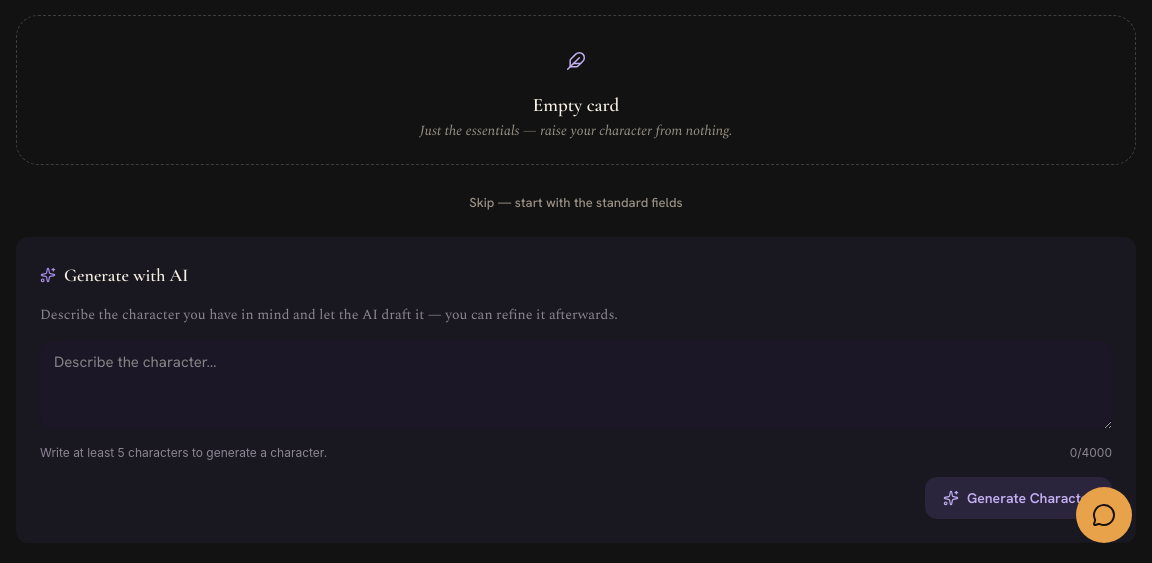
Test: CharacterCreator in an archived workspace › does not create a new card at an archived origin
(page scrolled)
expect the button "Generate Character" is disabled: met, box [925,477,1112,519]
Step 1. Click the button "Skip — start with the standard fields" → x=576, y=203, box [469,193,683,213]
(page scrolled)
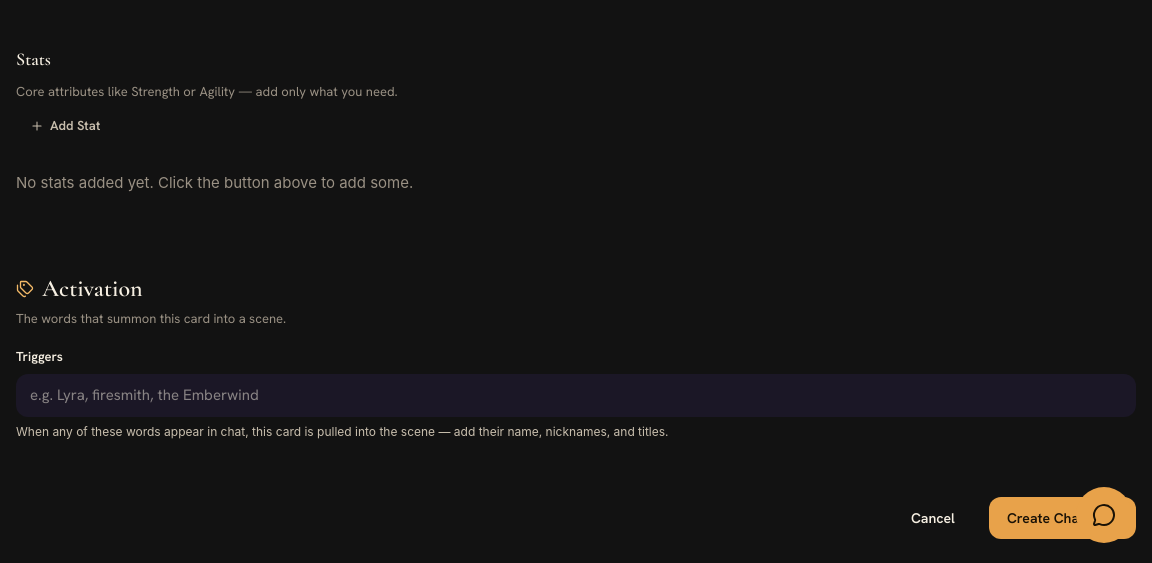
expect the button "Create Character" is disabled: met, box [989,498,1136,540]
